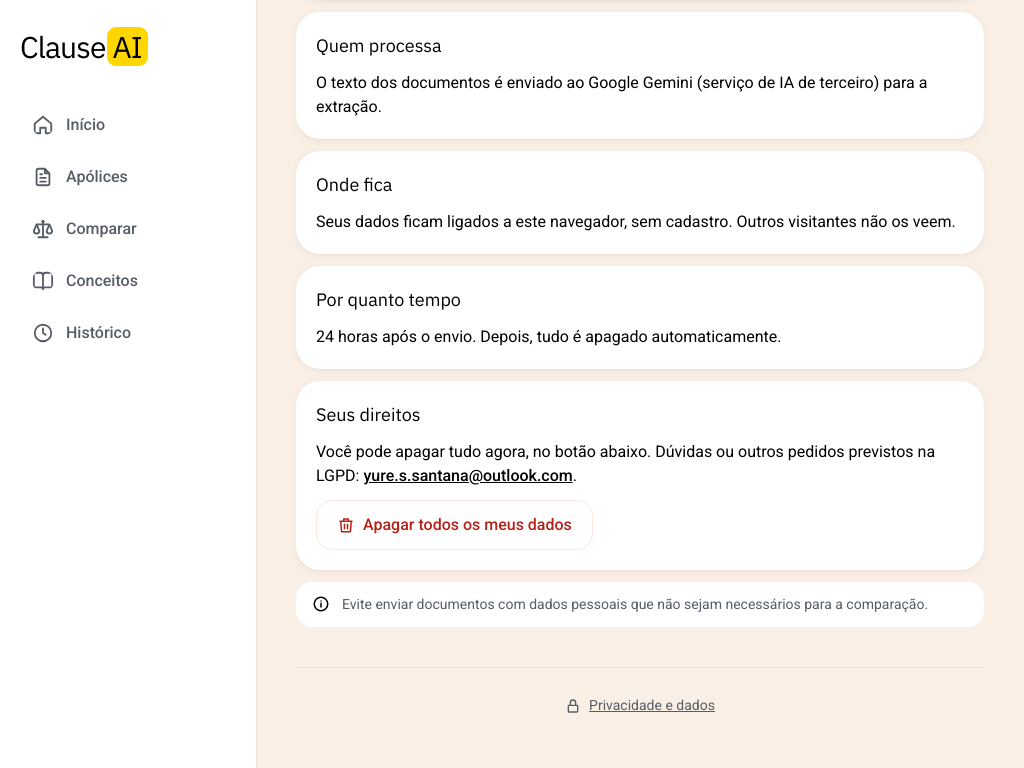
it: Privacidade e dados › mostra a contagem, foca "Cancelar" e não apaga ao cancelar
This screenshot has width=1024, height=768.
(page scrolled)
Click the button "Apagar todos os meus dados" at x=454, y=525, box [316,500,593,550]
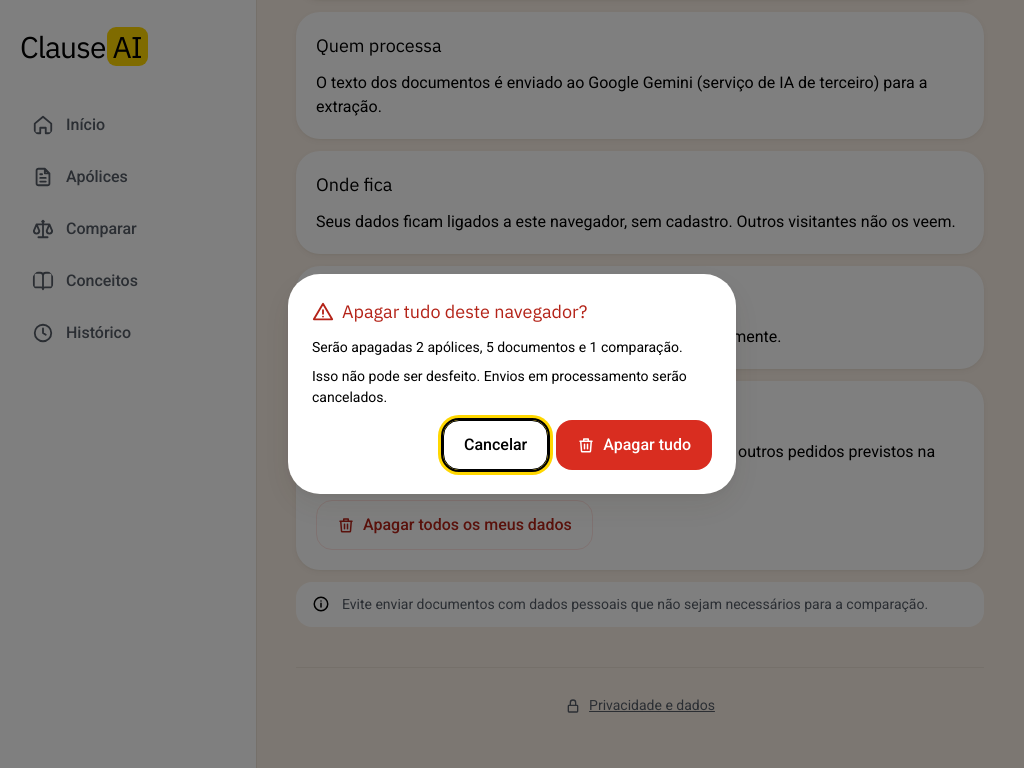
Result: the text "Serão apagadas 2 apólices, 5 documentos e 1 comparação." is shown at [312,337,712,358]
Result: the text "Isso não pode ser desfeito. Envios em processamento serão cancelados." is shown at [312,366,712,408]
Click the button "Cancelar" at x=496, y=445, box [443,420,548,470]
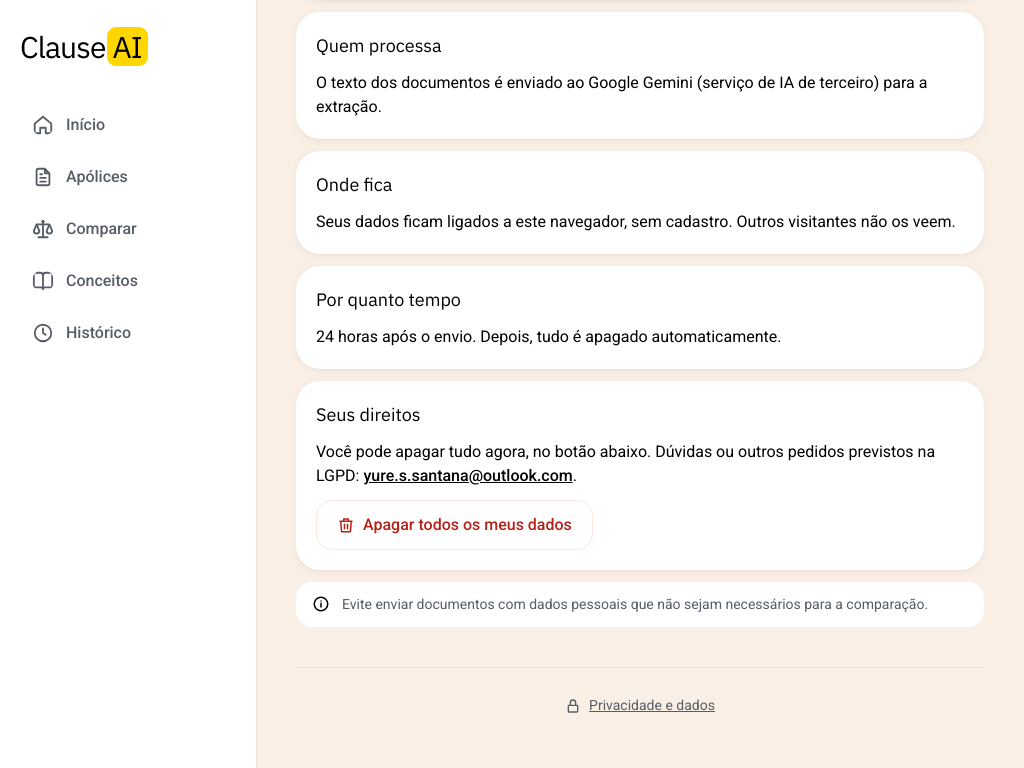
Result: the dialog is gone
